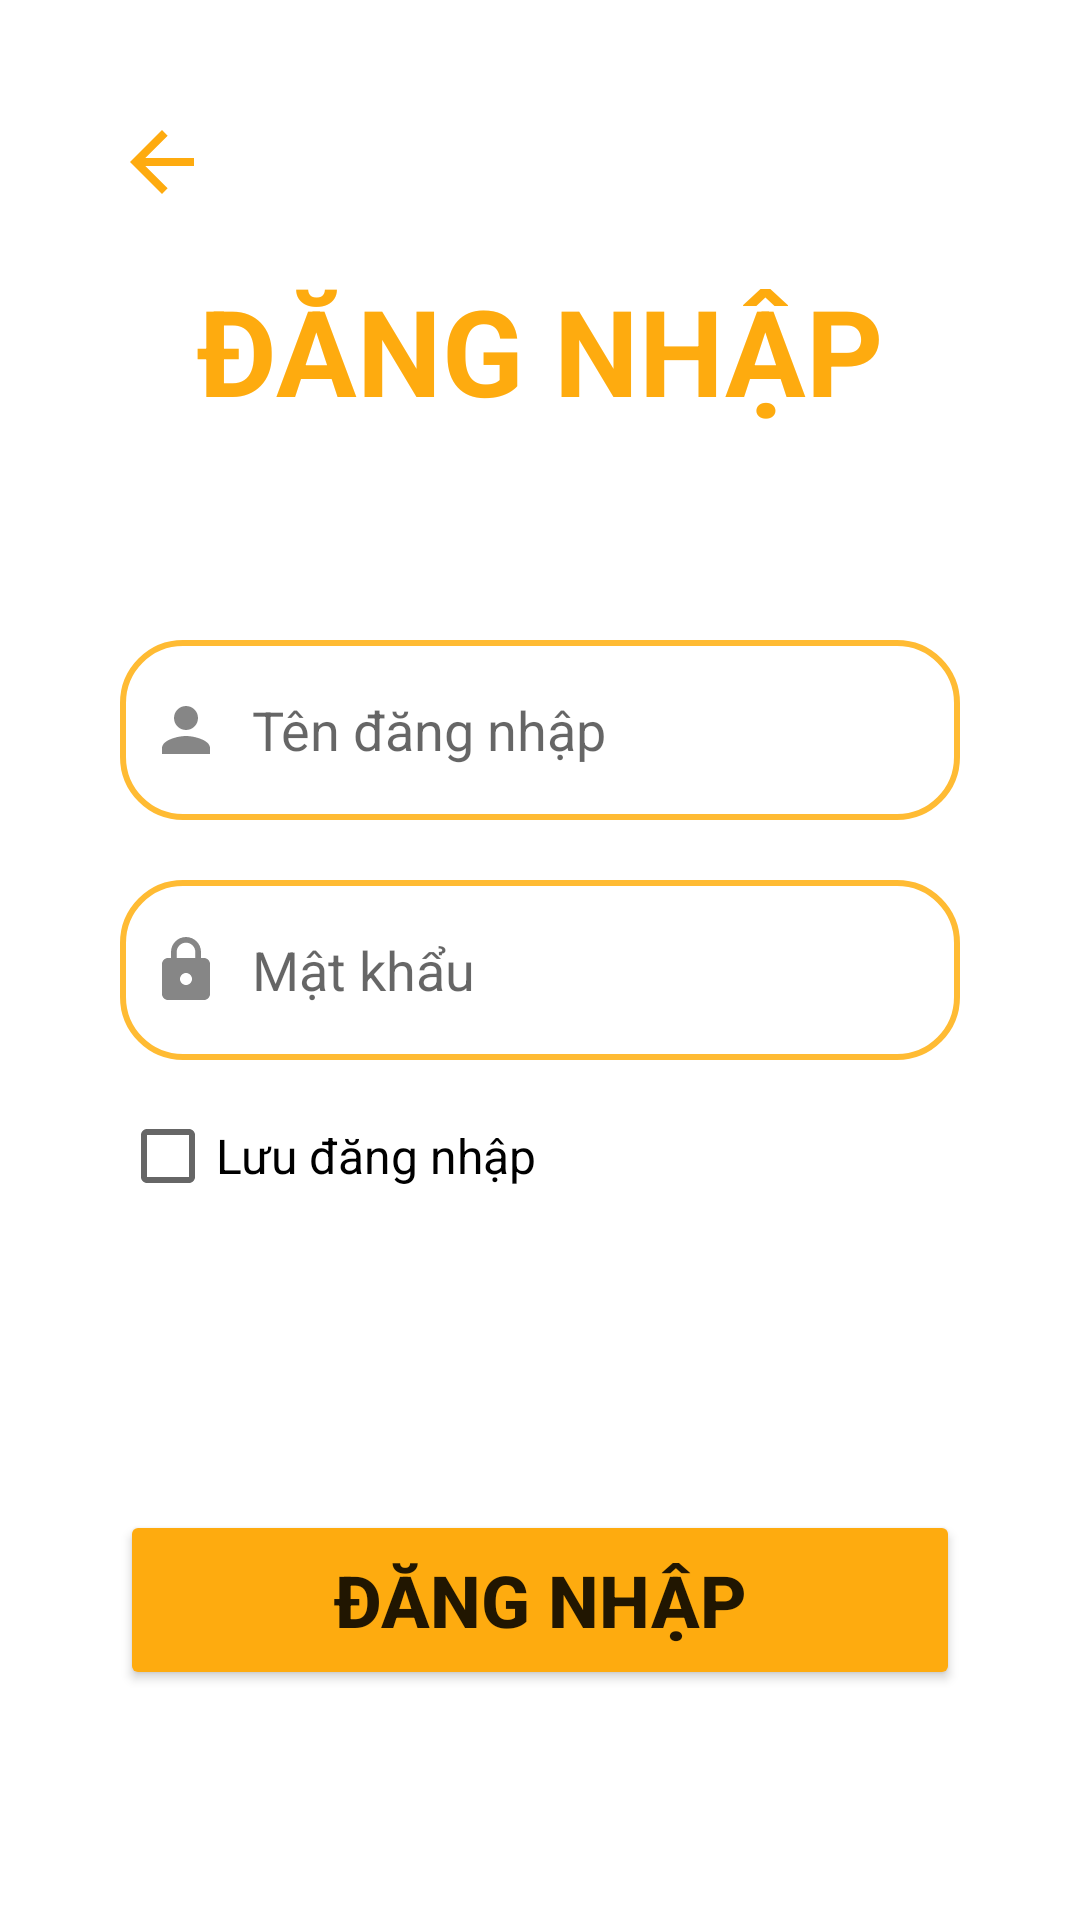

Screen size 1080×1920. Icon name, then its center in pixels as [x,y]:
Back: [162,162]
